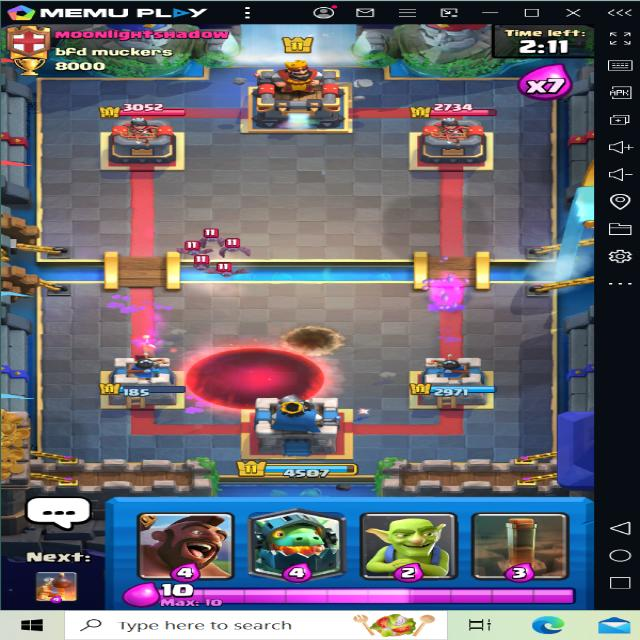bats: (220, 234, 250, 260), (178, 256, 220, 272), (195, 229, 237, 244), (206, 262, 242, 279), (178, 241, 209, 259)
void: (179, 346, 324, 410)
